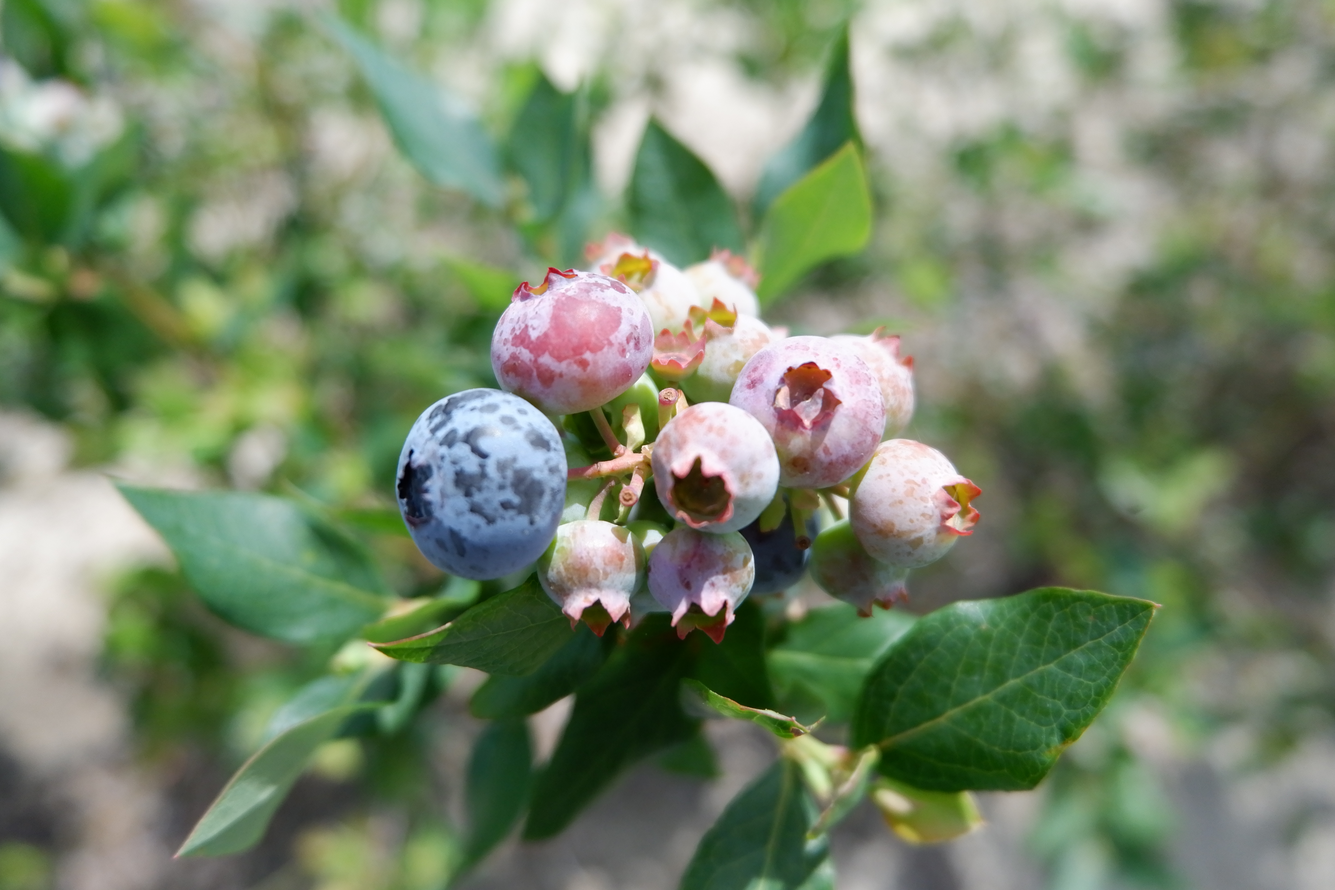Immature: (729, 336, 885, 484), (494, 269, 649, 411), (855, 443, 979, 567), (656, 406, 778, 529), (542, 521, 646, 631), (650, 528, 752, 636), (559, 372, 662, 460), (812, 524, 911, 614), (838, 329, 914, 435), (680, 319, 777, 402), (602, 253, 693, 334), (685, 251, 757, 327), (560, 436, 621, 524), (619, 561, 672, 648), (582, 230, 654, 274), (620, 519, 670, 573)
Mature: (399, 389, 567, 576), (740, 494, 823, 594)
